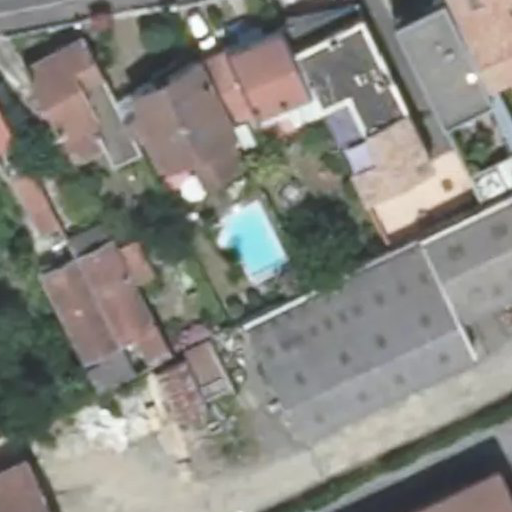pool: (228, 221, 283, 263)
